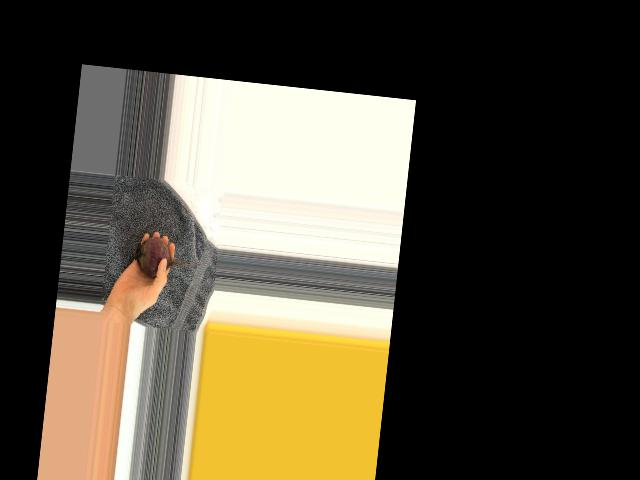beet: (132, 234, 203, 281)
